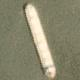ship: (37, 0, 44, 46)
